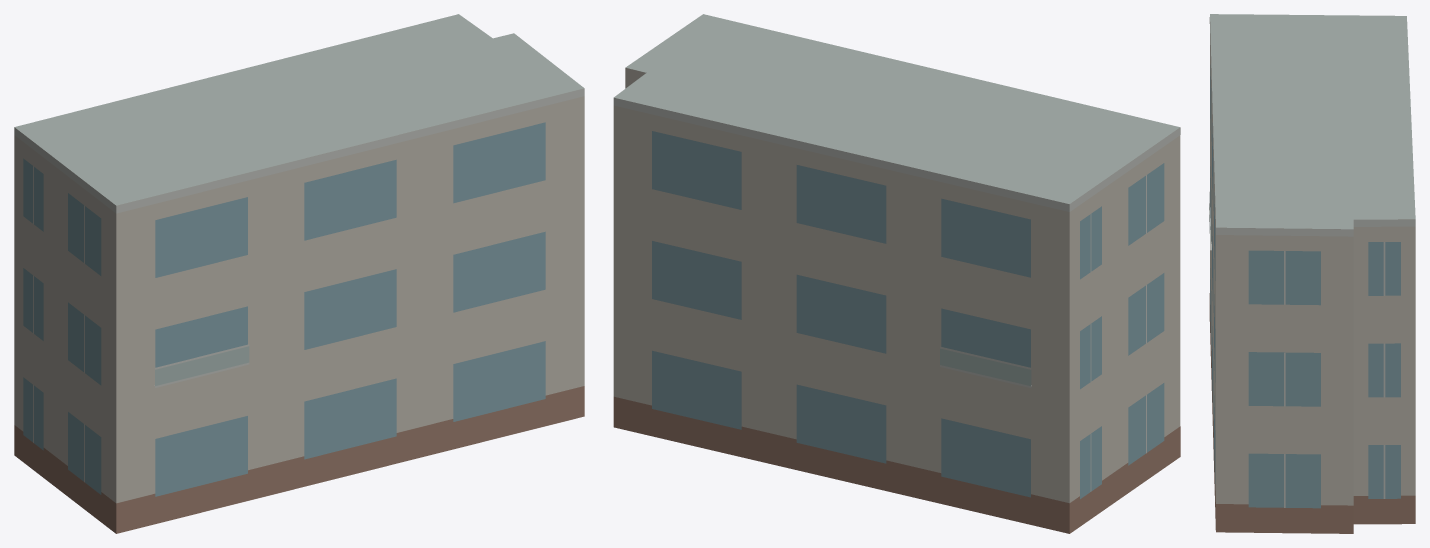
Rendered from survey-upis-32960948.glb.
The picture shows the model from 3 angles, left to right: view 1: azimuth 30°, elevation 25°; view 2: azimuth 150°, elevation 25°; view 3: azimuth 270°, elevation 25°; orthographic projection. The views are drawn at different scales.
Parts seen in each view (by area): view 1: survey-upis-32960948.tmp; view 2: survey-upis-32960948.tmp; view 3: survey-upis-32960948.tmp.
Part boxes in pixels (x1=…): survey-upis-32960948.tmp: x1=14, y1=14, x2=584, y2=533; survey-upis-32960948.tmp: x1=613, y1=14, x2=1180, y2=533; survey-upis-32960948.tmp: x1=1209, y1=14, x2=1415, y2=533.
Size of the model in its own units: 15.47 by 10.2 by 6.27.
